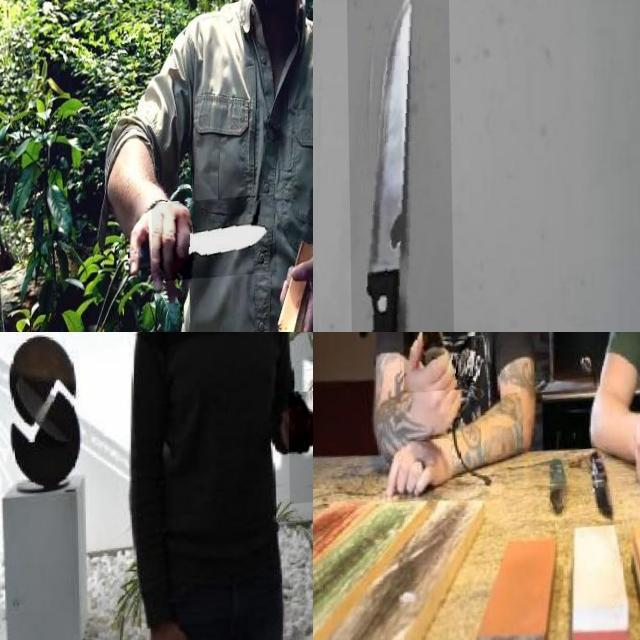-: (347, 0, 455, 332), (150, 200, 275, 286), (401, 332, 471, 408), (287, 394, 313, 508)
